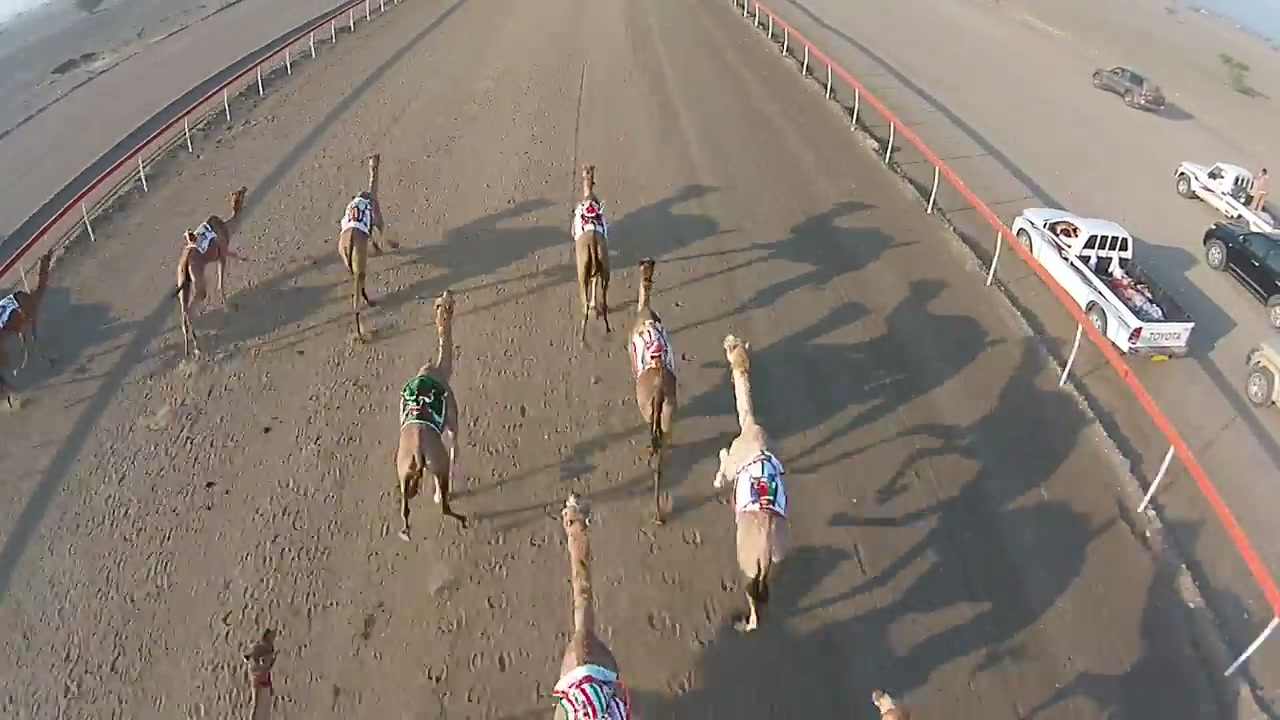animal_footprint: (197, 329, 380, 718), (24, 378, 218, 698), (368, 497, 515, 719), (604, 508, 742, 719)
